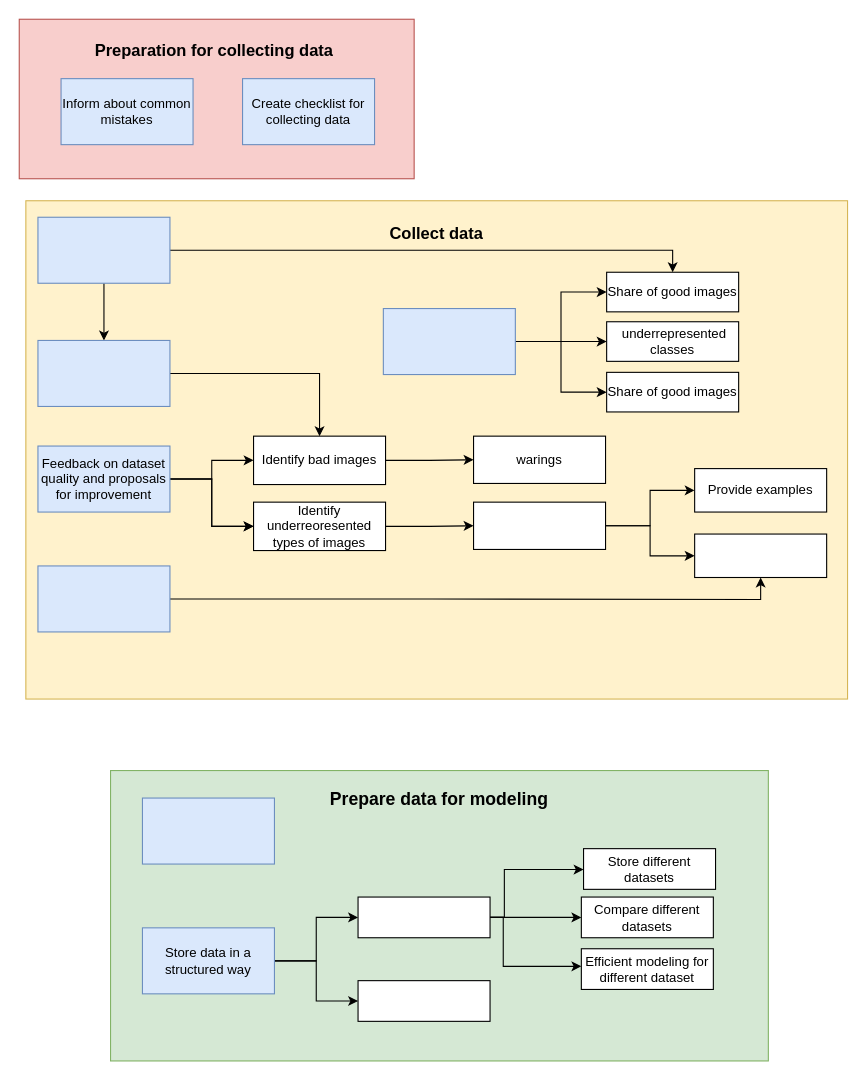
Some shapes in this 867 by 1080 pixel diagram are drawn without their labels. Each missing label, with the centre of its shape:
"Automatic data preprocessing and standardization" belongs at [207,830].
"Automatically select suitable images to enhance quality" belongs at [760,555].
"Check image quality" belongs at [103,249].
"Clustering?" belongs at [539,525].
"Dashboard for dataset quality" belongs at [448,341].
"Provide examples for good and bad images" belongs at [103,372].
"Standardized format" belongs at [423,1000].
"Tool for data annotation" belongs at [103,598].
"Versioning of different datasets" belongs at [423,917].
